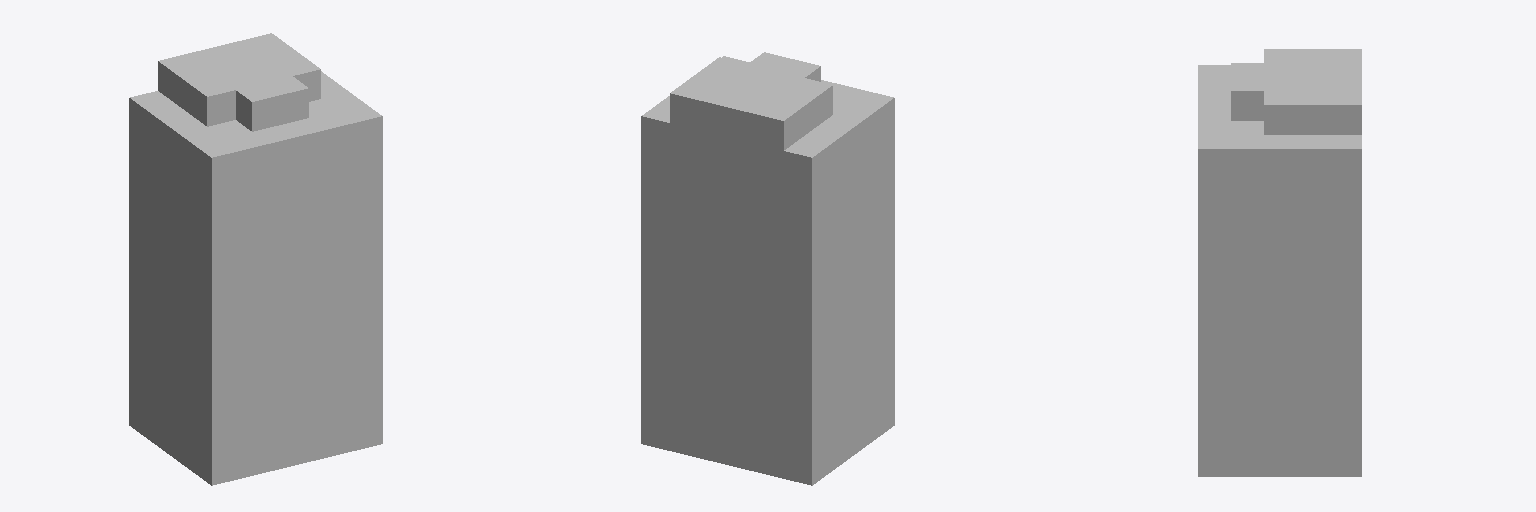
The model's file is Orange Bottle.obj.
3 renders of one model, left to right at view 1: azimuth 30°, elevation 25°; view 2: azimuth 150°, elevation 25°; view 3: azimuth 270°, elevation 25°, orthographic.
Visible parts, largest first — view 1: object 1; view 2: object 1; view 3: object 1.
Boxes of the visible parts, x1=… form: object 1: x1=129, y1=33, x2=382, y2=485; object 1: x1=641, y1=52, x2=894, y2=485; object 1: x1=1198, y1=49, x2=1361, y2=476.
Bounding box in the file's own units: 0.6 × 1.2 × 0.5.